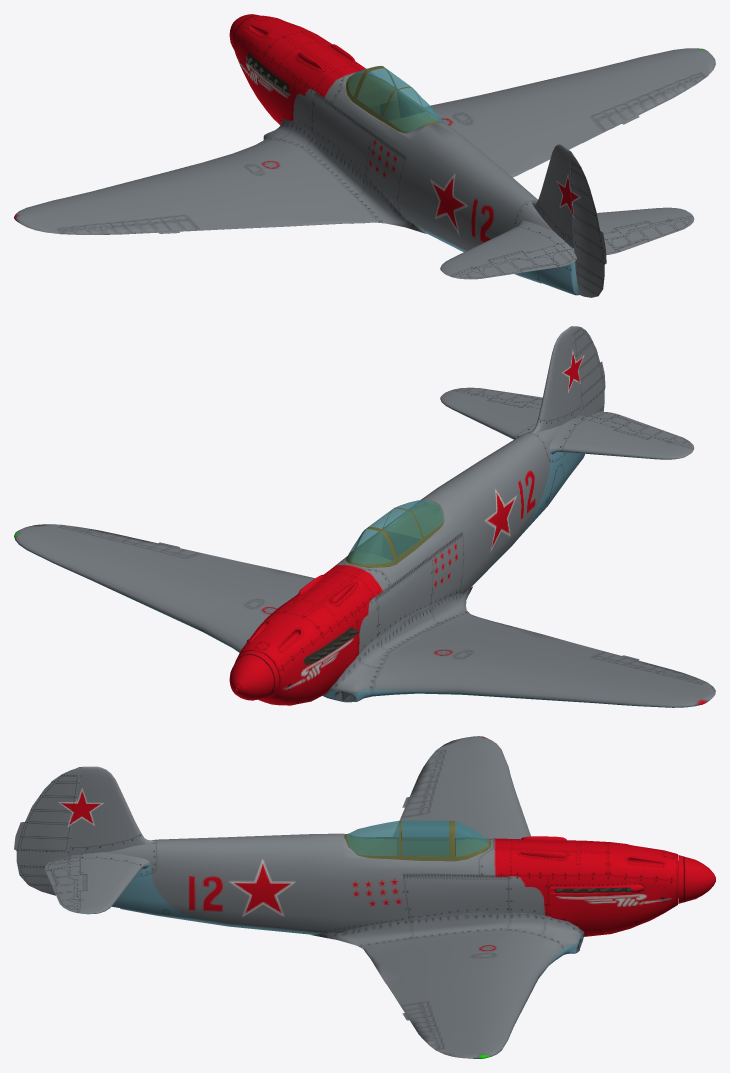
File: Yak3LOD0.glb
The picture shows the model from 3 angles, top to bottom: view 1: azimuth 30°, elevation 25°; view 2: azimuth 150°, elevation 25°; view 3: azimuth 270°, elevation 25°; orthographic projection. The views are drawn at different scales.
Parts seen in each view (by area): view 1: Plane01-FACES.001; view 2: Plane01-FACES.001; view 3: Plane01-FACES.001.
Boxes of the visible parts, x1,y1,x2,y2 form: Plane01-FACES.001: (14,14,715,297); Plane01-FACES.001: (14,326,715,707); Plane01-FACES.001: (14,736,715,1058).
Bounding box in the file's own units: 27.47 × 6.78 × 25.37.
Materials: 13 (11 with a texture image).
